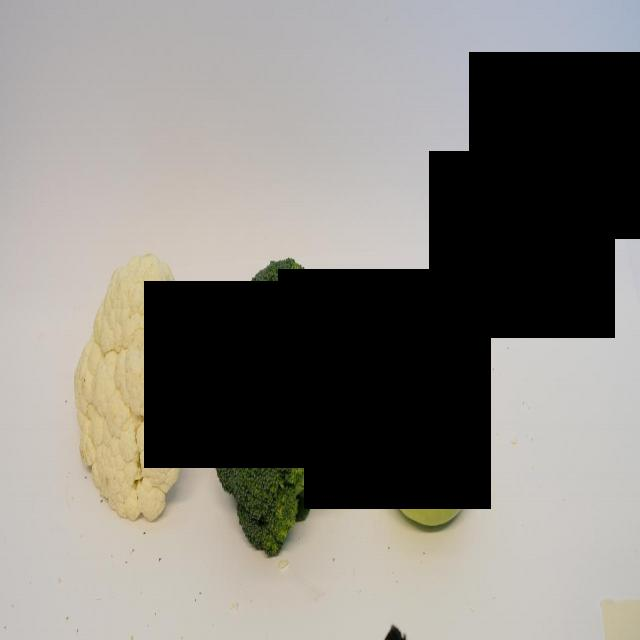apple: (369, 357, 482, 532)
broccoli: (202, 242, 377, 560)
cauliflower: (66, 223, 214, 533)
